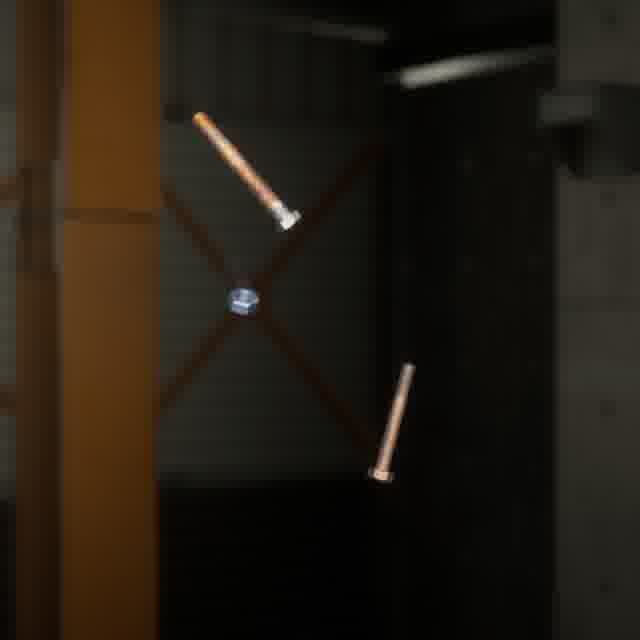bolt: (187, 106, 305, 237), (362, 358, 419, 487)
nut: (223, 282, 263, 319)
